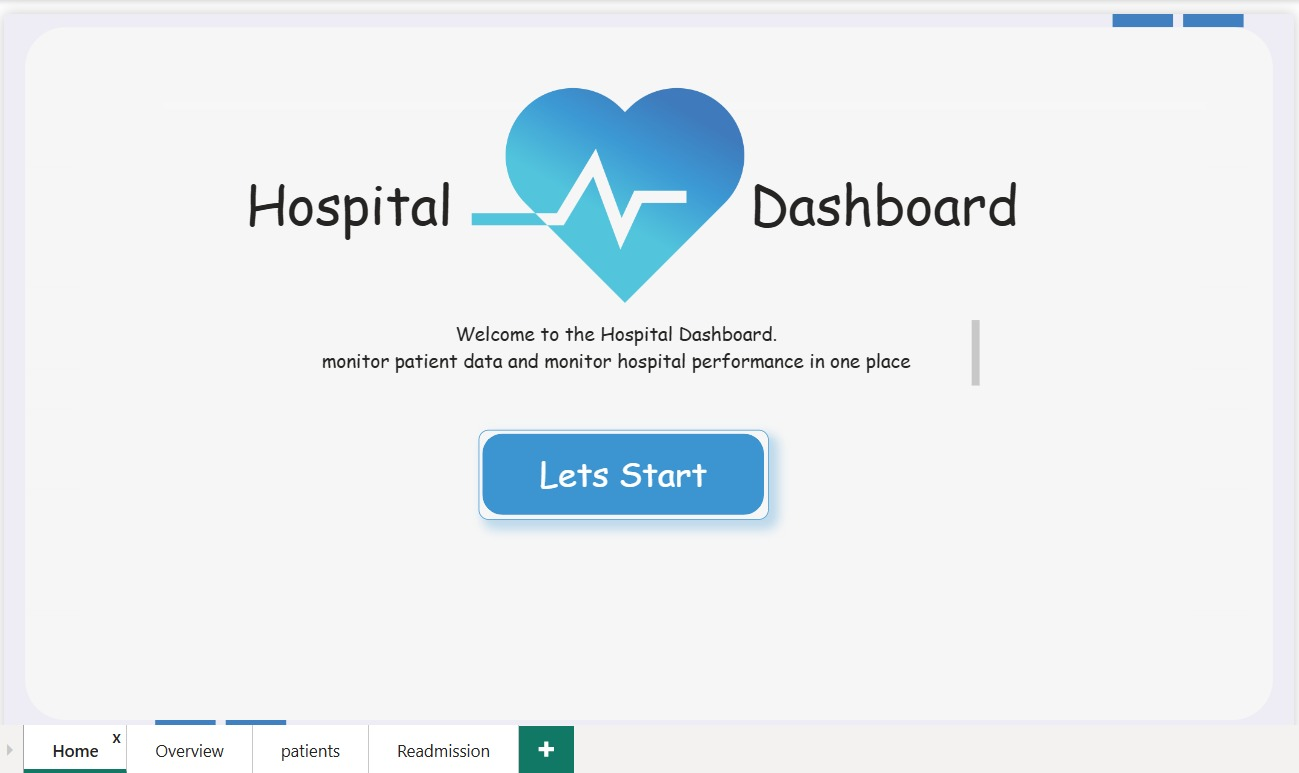

The page's visual inventory and layout, read from the dashboard file:
{"tool":"powerbi","page":{"name":"Home","canvas":[1280,720],"ordinal":0},"visuals":[{"type":"image","box":[440.5,61.1,318.2,237.6],"z":0},{"type":"textbox","box":[735.1,145.9,287.6,102.8],"z":1000},{"type":"textbox","box":[234.8,145.9,223.7,87.5],"z":2000},{"type":"shape","box":[471.1,412.7,287.6,88.9],"z":3000},{"type":"textbox","box":[250.1,298.8,722.6,77.8],"z":4000}]}

Visuals, with their boxes on the page's 1280x720 design canvas (x1, y1, x2, y2). These are canvas units, not pixel positions in the 1299x773 screenshot, which may show the page scaled, cropped or inside an application window:
image: 440:61:759:299
textbox: 735:146:1023:249
textbox: 235:146:458:233
shape: 471:413:759:502
textbox: 250:299:973:377
